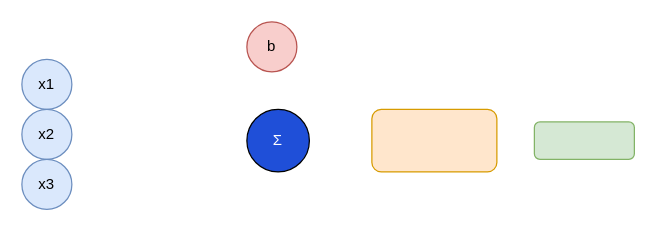
Image size: 656x231. Some labels were removed from this diagram. The box of each missing label's shape, as (x1, y1, x2, y2) in pixels:
Activation: (371, 108, 497, 172)
Output: (533, 121, 634, 159)
